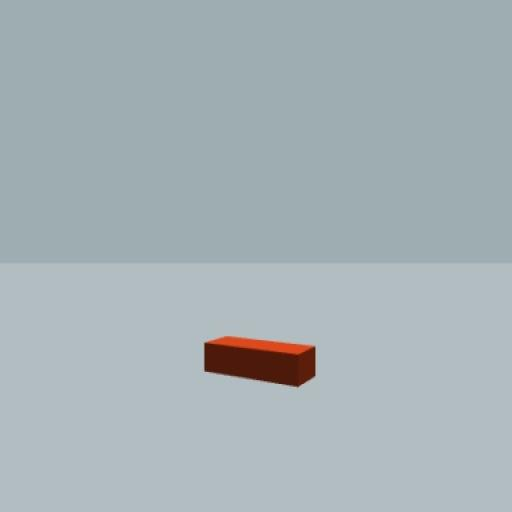debris_container: (204, 332, 316, 391)
